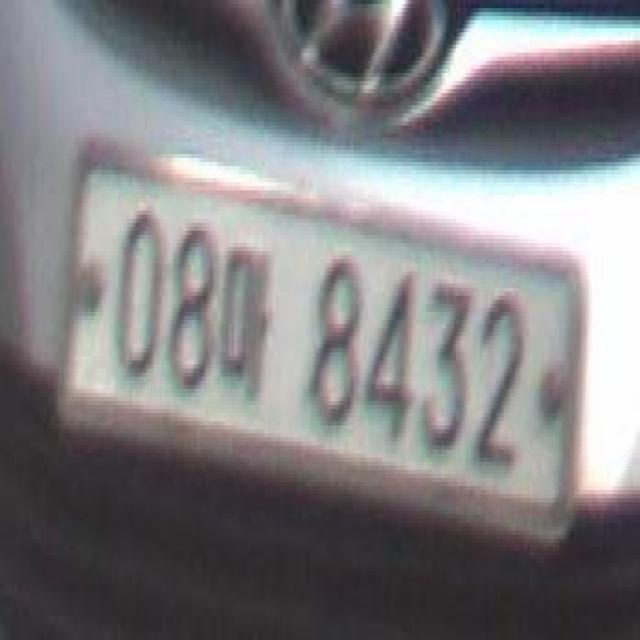illegal_plate: (71, 148, 586, 546)
